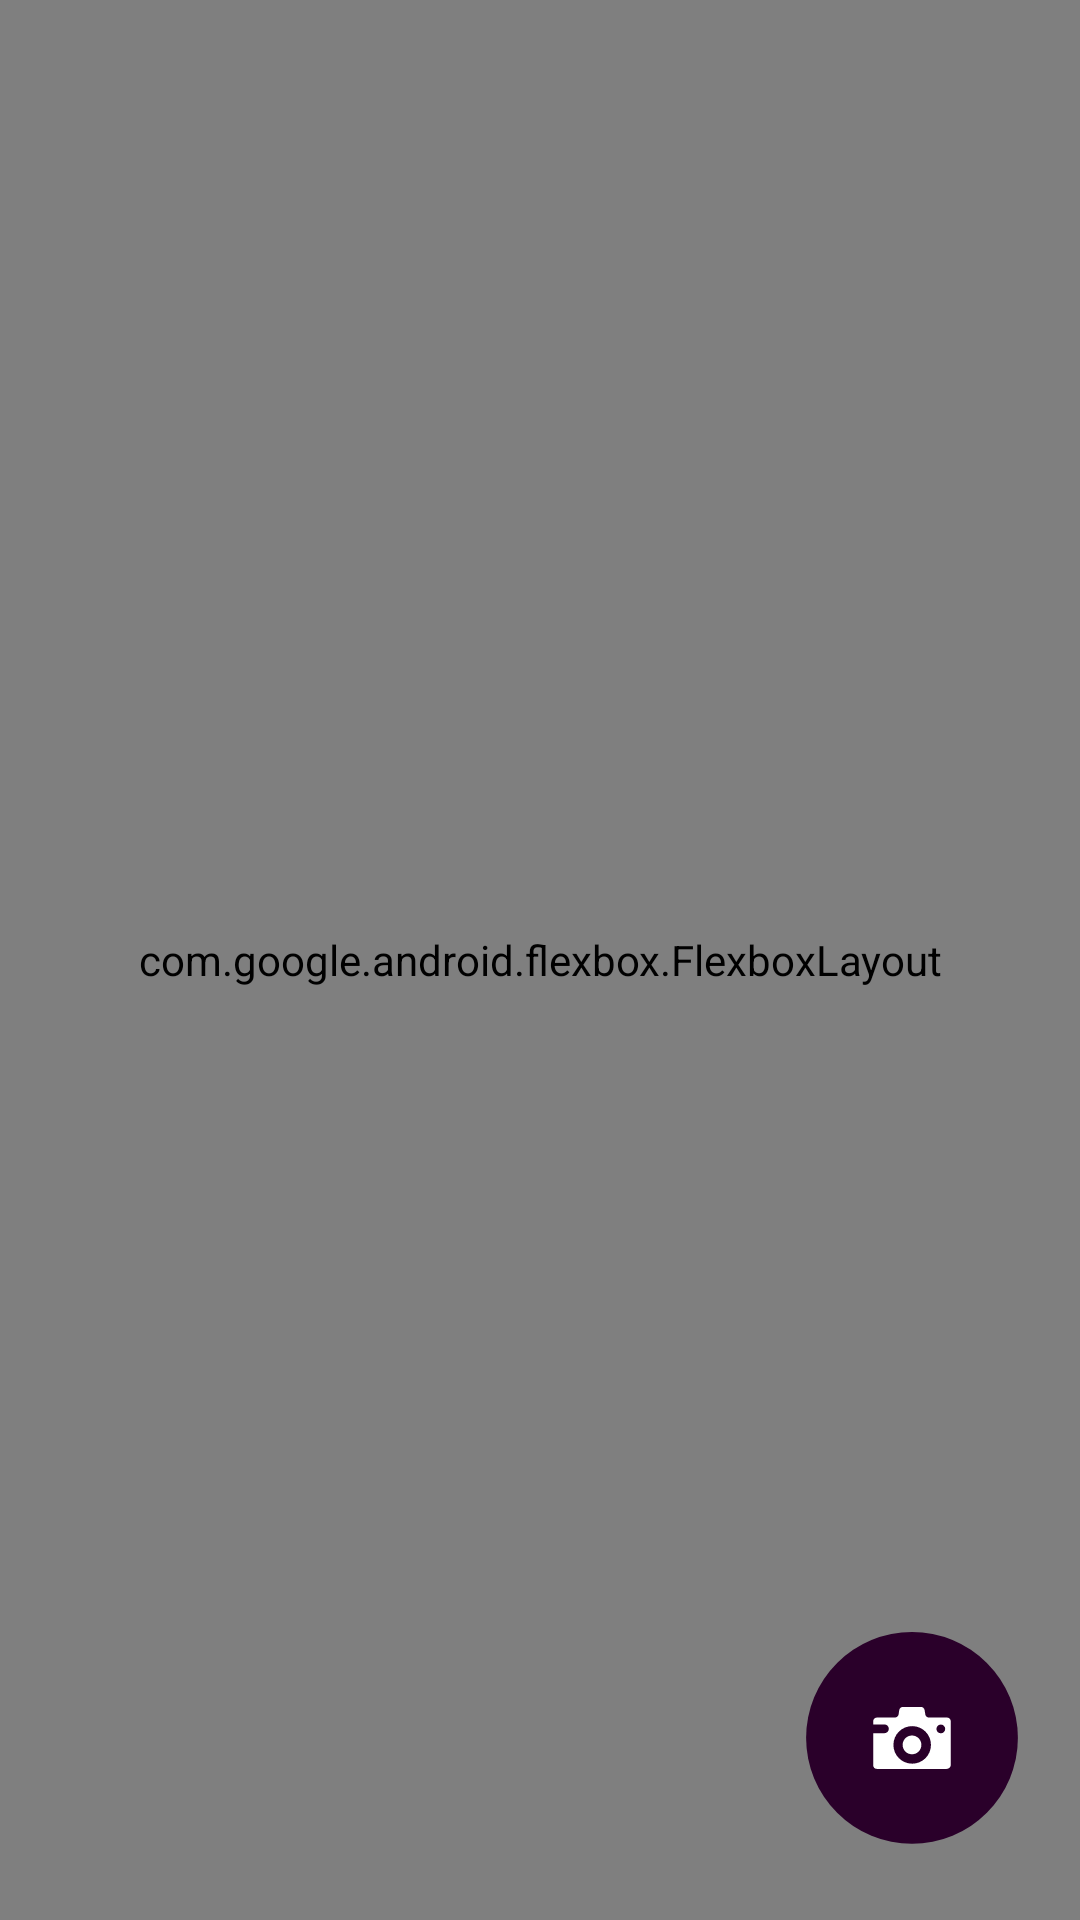

Named icons in this screenshot (1080*1920) and their centers, [x,y]:
camera: [912,1738]
